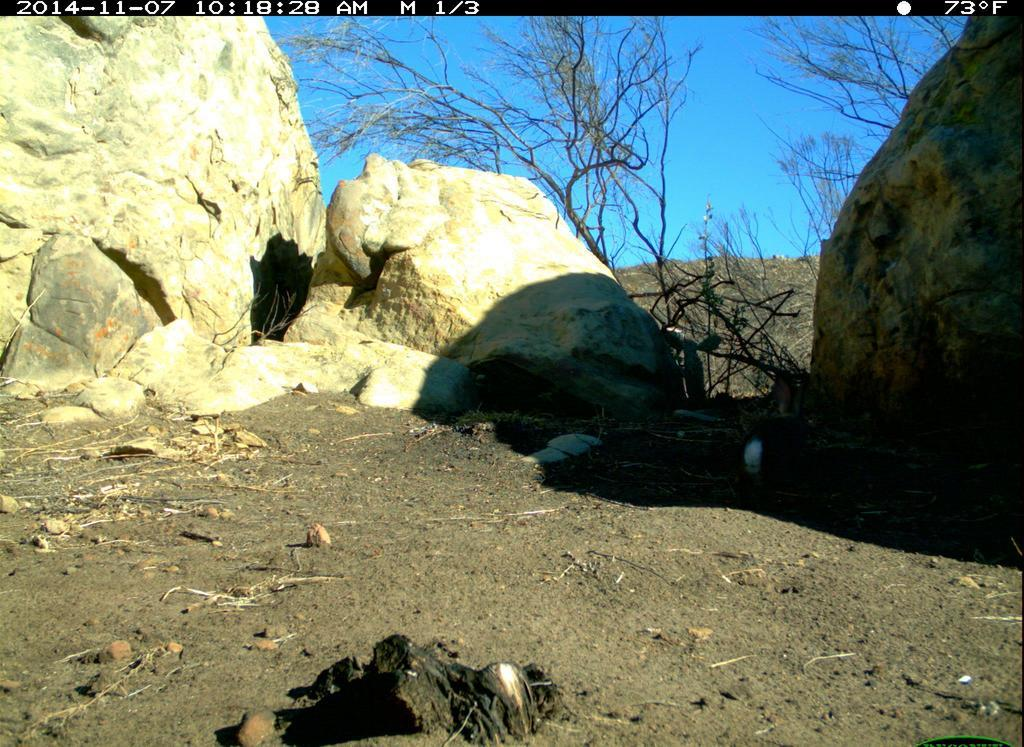rabbit: (731, 369, 825, 497)
